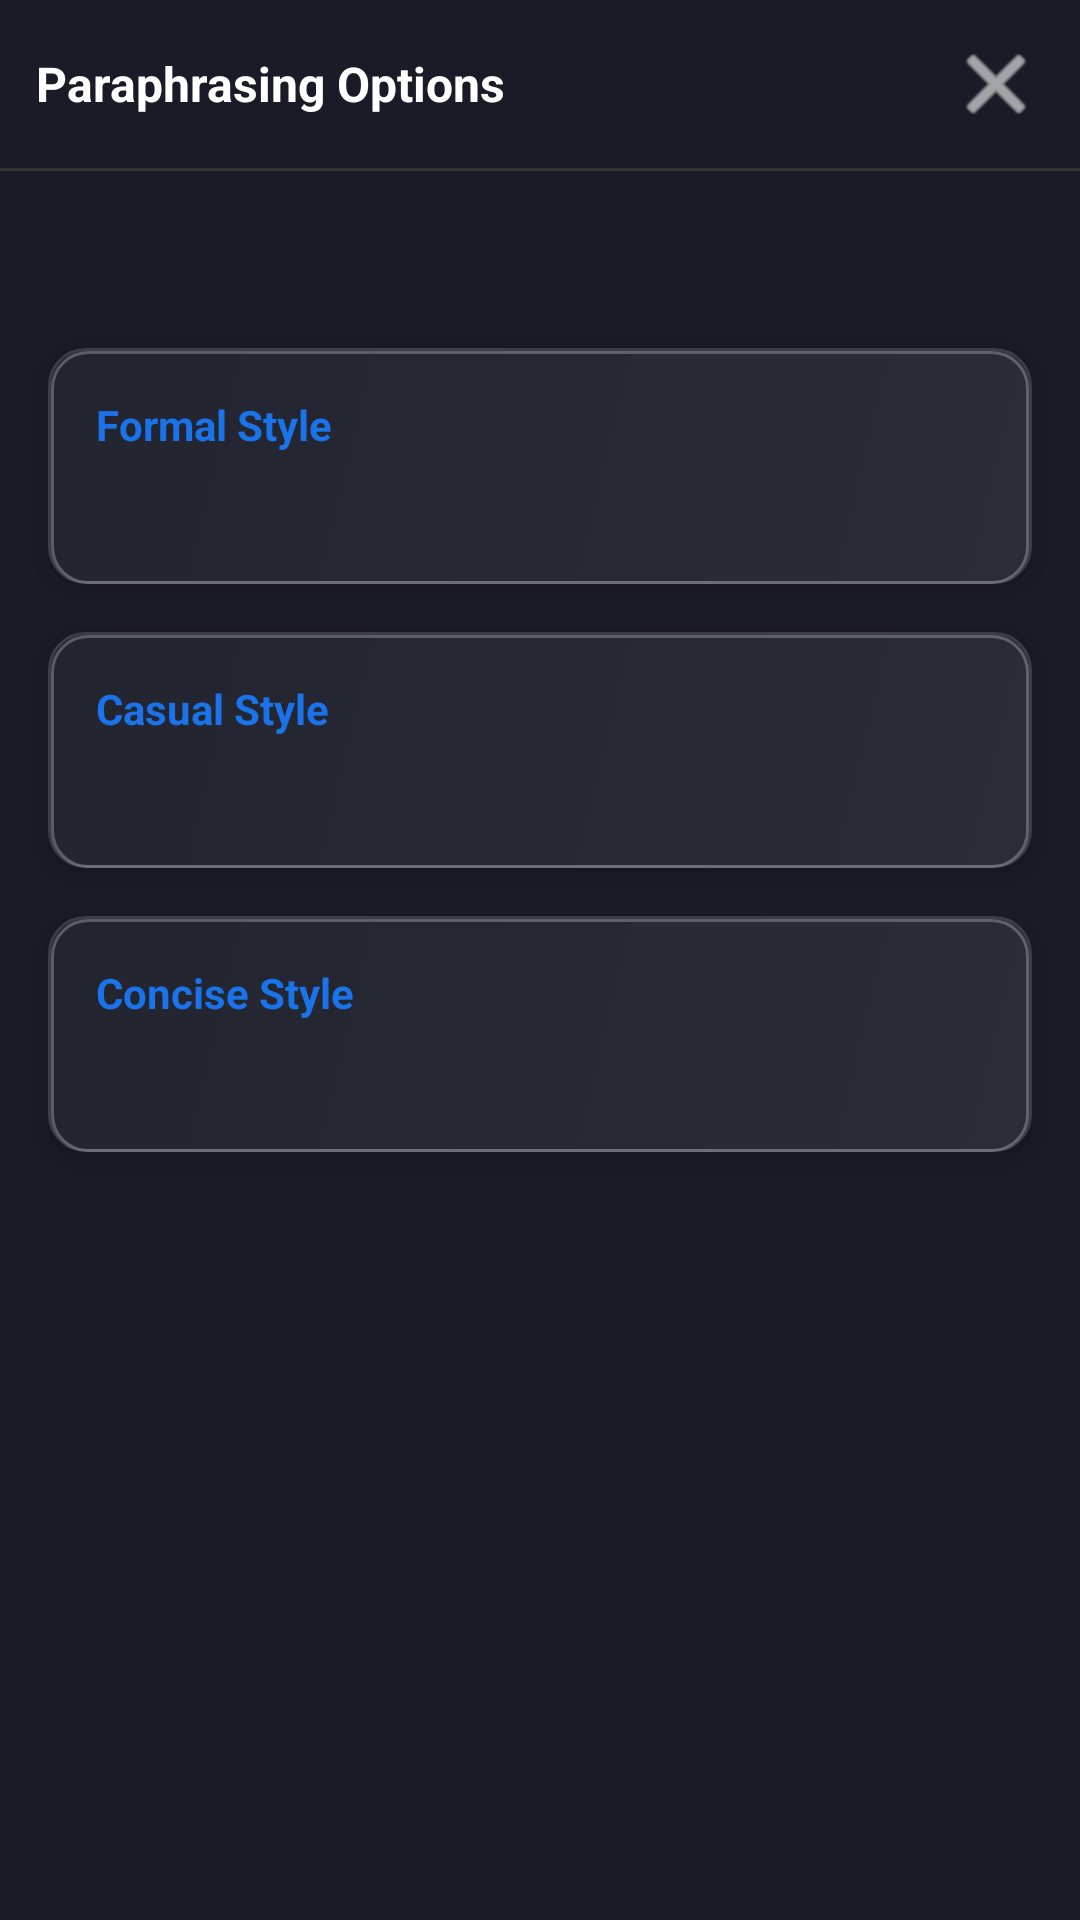

Screen size 1080 x 1920. Icon name, then its box in pixels as (x1, y1, x2, y2):
close clear cancel: (966, 54, 1026, 114)
